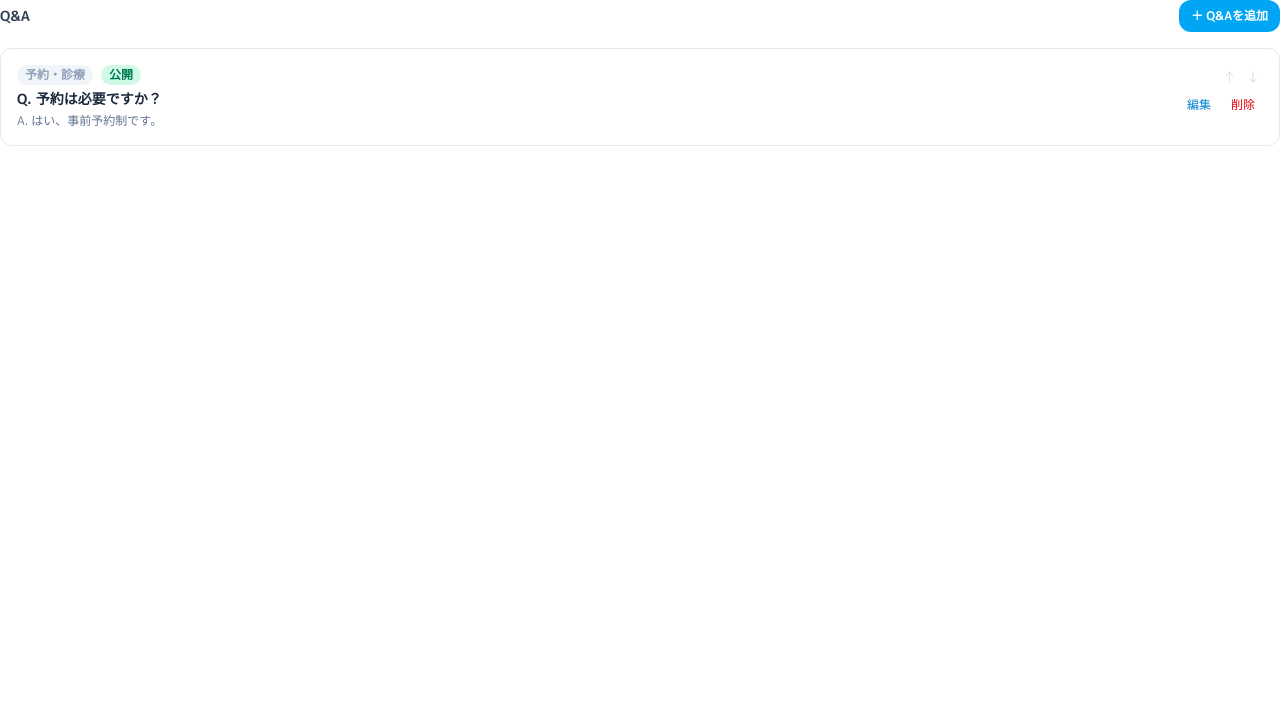
Scenario: ClinicQaManager › 編集すると内容が更新される
The width and height of the screenshot is (1280, 720).
Expected: the text "Q. 予約は必要ですか？" is shown, [17,89,162,108]
Click the button "編集" at (1199, 105), box [1179,93,1219,117]
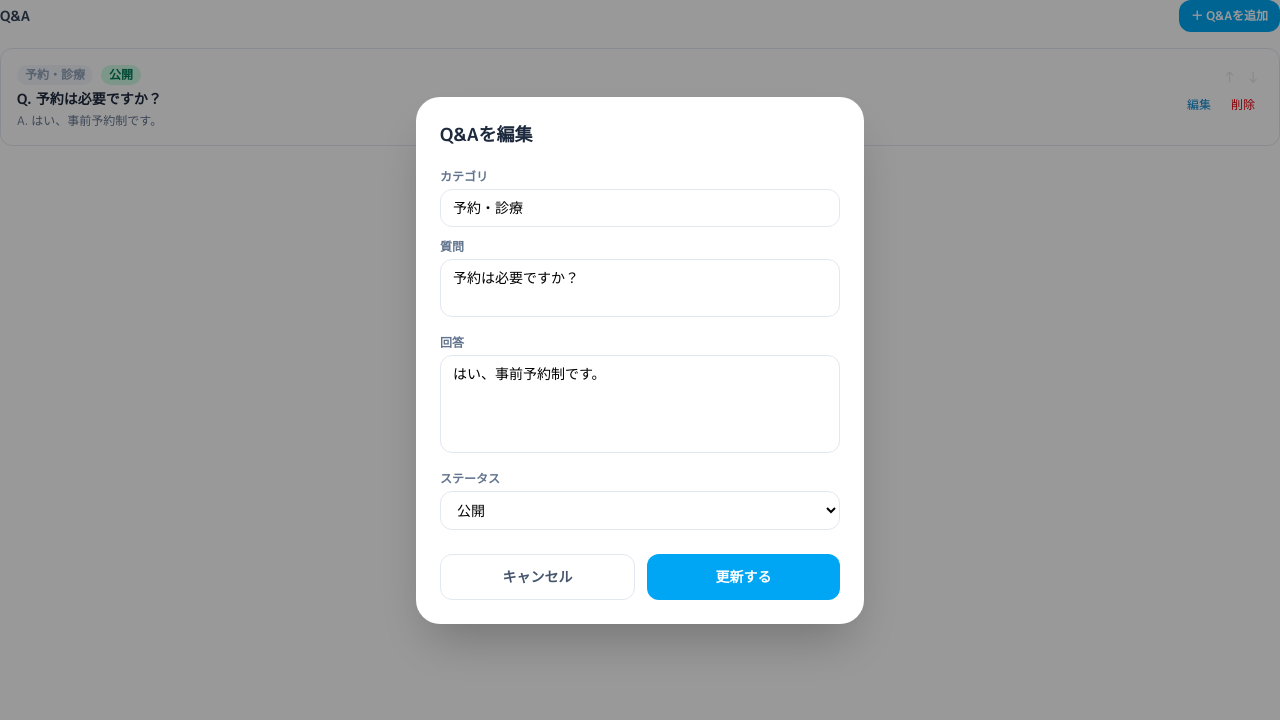
Replace the text in the text box below "回答" with "土日祝も予約可能です。" at (640, 404), box [440,354,840,452]
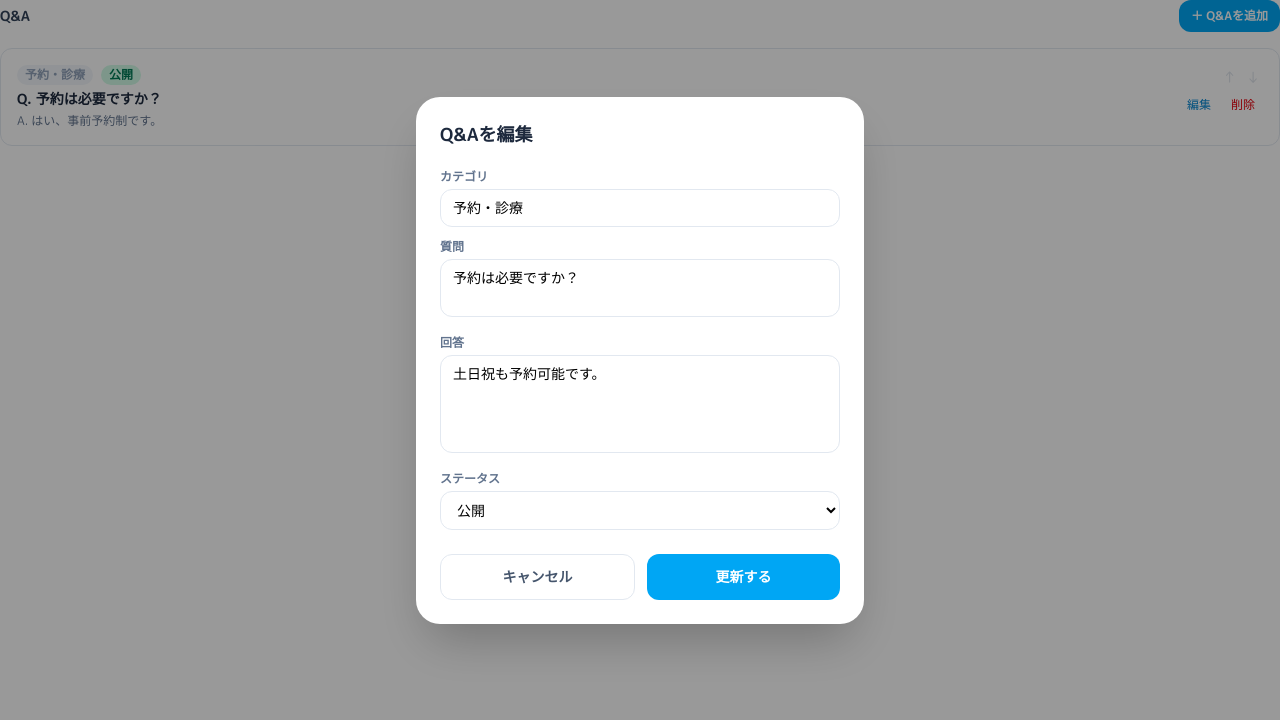
Click the button "更新する" at (744, 576), box [647,554,840,600]
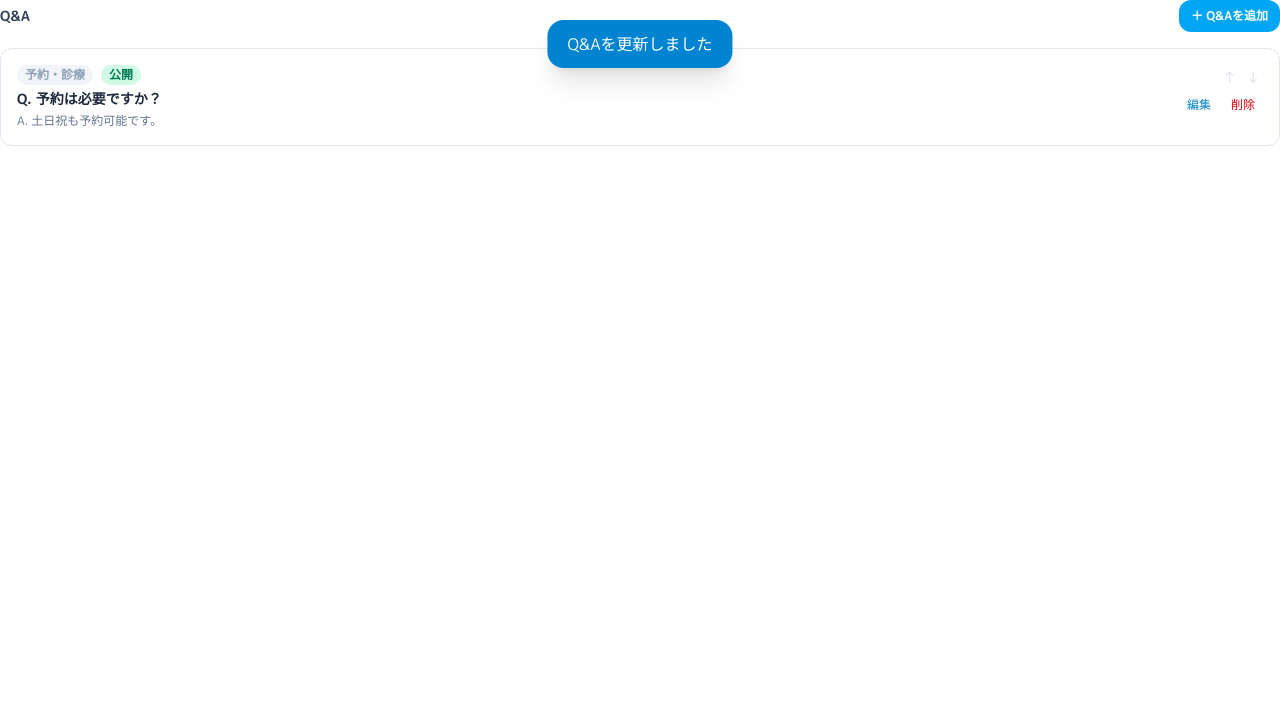
Now the text "Q&Aを更新しました" is shown, box [547,20,732,68]
Now the text "A. 土日祝も予約可能です。" is shown, box [17,112,162,129]
